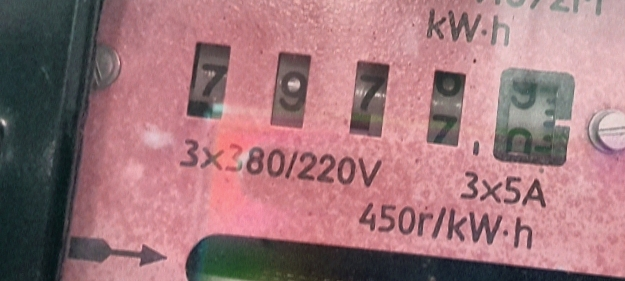0: (499, 120, 535, 161)
7: (351, 70, 386, 115), (193, 58, 227, 103), (425, 110, 458, 148)
9: (272, 66, 309, 114), (505, 73, 539, 111)
screen: (162, 17, 600, 191)
